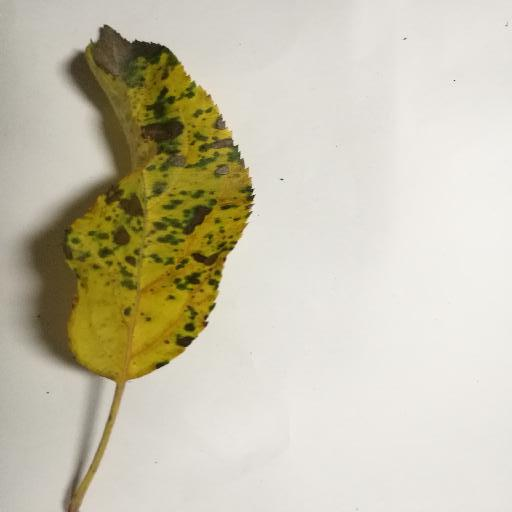Brown_Spot: (50, 22, 276, 379)
